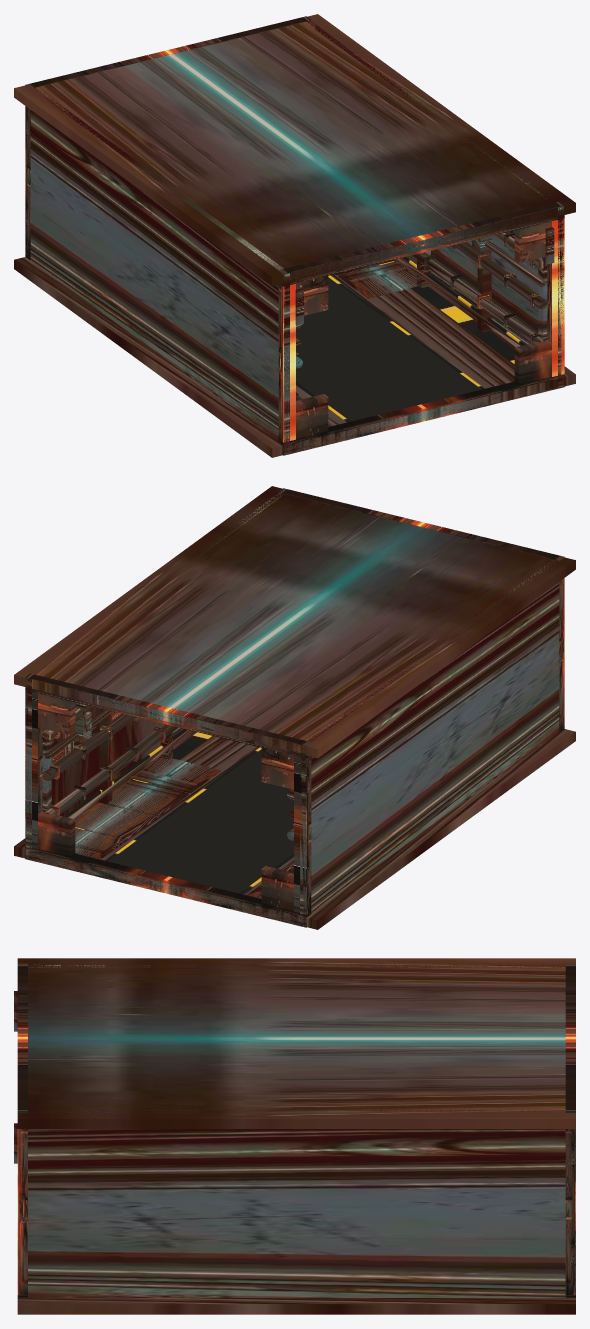
File: hangar_ic_koridor_demirhan.glb
3 views of the same model, one above another, from view 1: azimuth 30°, elevation 25°; view 2: azimuth 150°, elevation 25°; view 3: azimuth 270°, elevation 25° (orthographic). The views are drawn at different scales.
Parts seen in each view (by area): view 1: LOD0_koridor; view 2: LOD0_koridor; view 3: LOD0_koridor.
Boxes of the visible parts, x1,y1,x2,y2 form: LOD0_koridor: (14, 14, 575, 457); LOD0_koridor: (14, 486, 575, 929); LOD0_koridor: (14, 958, 575, 1314).
Size of the model in its own units: 10.2 by 5.84 by 15.1.
Materials: 1 (1 with a texture image).
